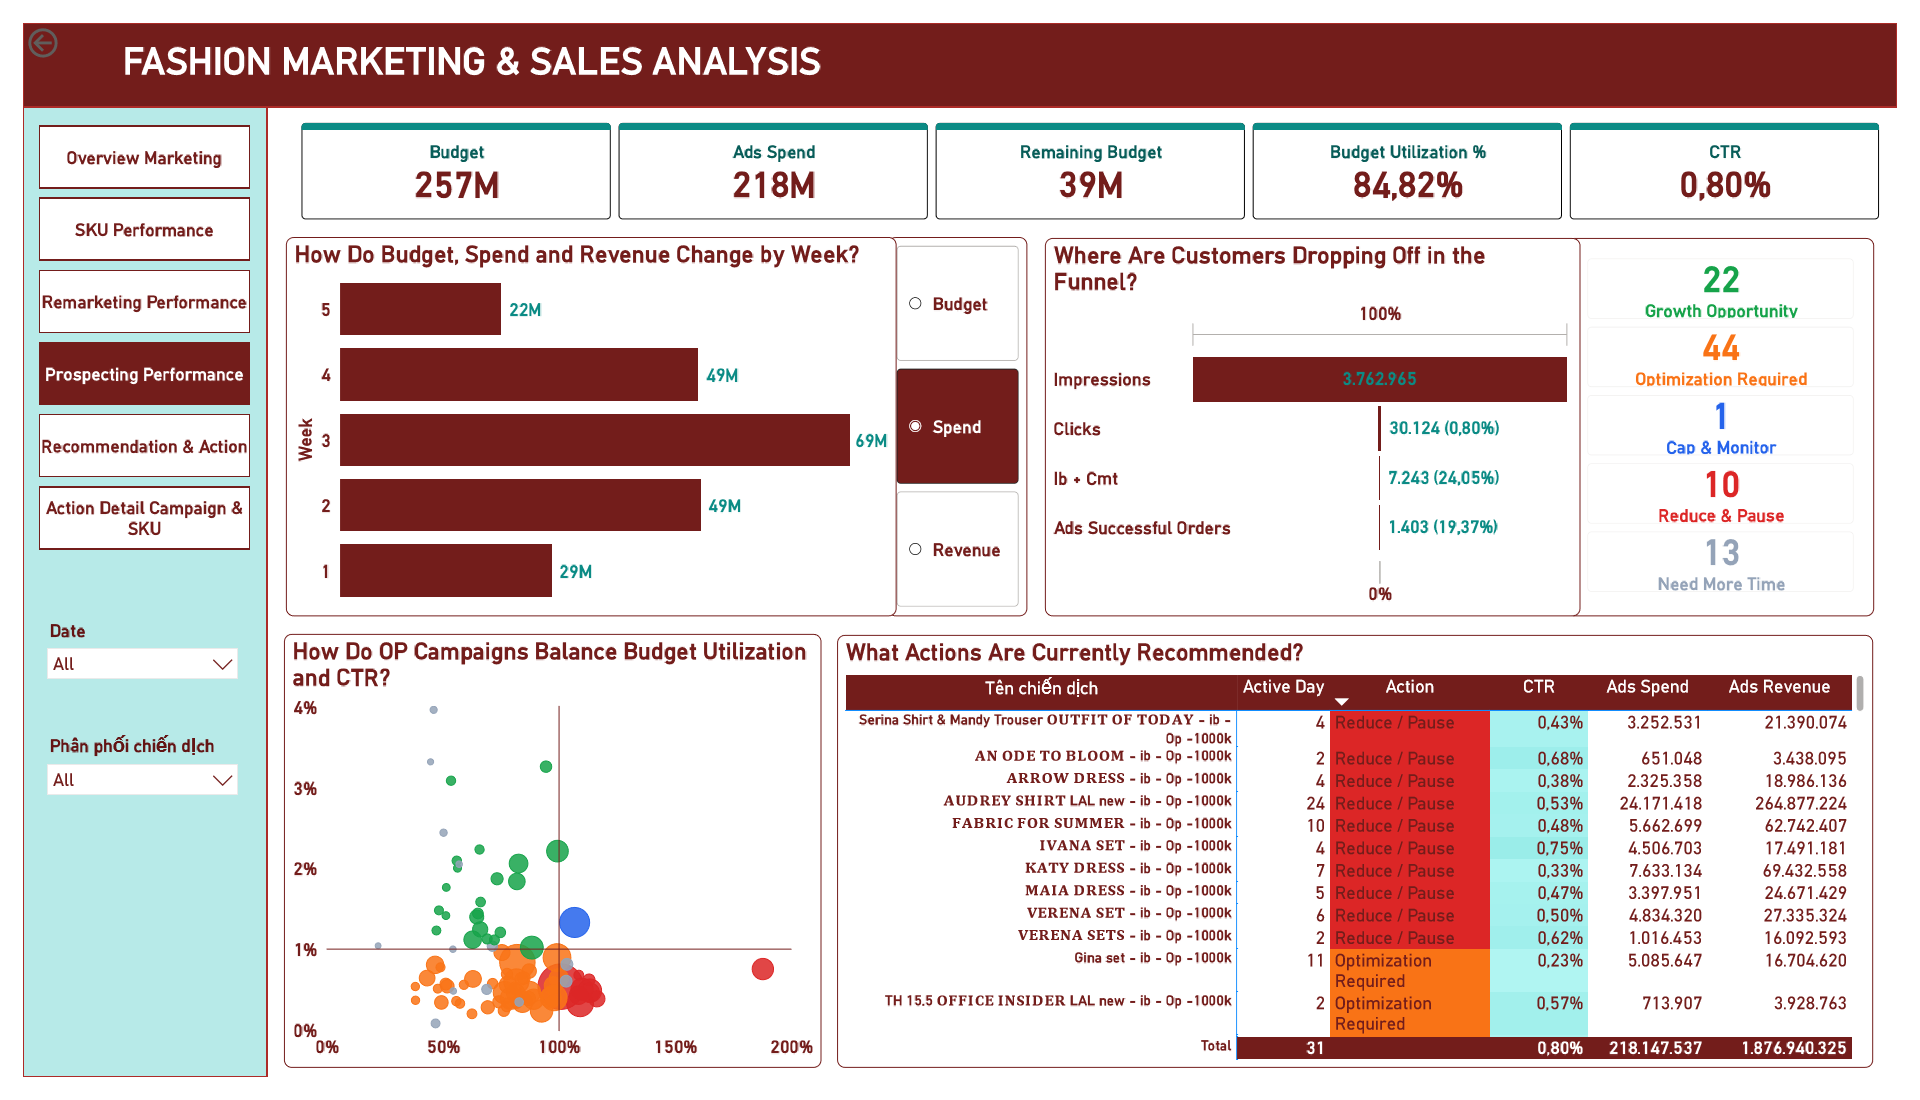

This screenshot's page, from the dashboard's own definition file:
{"tool":"powerbi","page":{"name":"Prospecting Performance","canvas":[1920,1080],"ordinal":3},"visuals":[{"type":"cardVisual","title":"Action_OP","fields":{"Data":["_Measure.OP Growth Count","_Measure.OP Optimization Count","_Measure.OP Cap Monitor Count","_Measure.OP Reduce Pause Count","_Measure.OP Need More Data Count"]},"box":[1582.3,219.9,314.4,388.1],"z":0},{"type":"shape","box":[0,85,250,995],"z":1000},{"type":"cardVisual","fields":{"Data":["_Measure.Total Budget","_Measure.Marketing Spend","_Measure._Remaining Budget","_Measure.Budget Utilization %","_Measure._CTR"]},"box":[268.3,85,1651.7,133.3],"z":2000},{"type":"slicer","fields":{"Values":["dim_date.Date"]},"box":[14.2,606.8,216.1,102.2],"z":3000},{"type":"slicer","fields":{"Values":["fact_mkt_camp_by_sku_cost.Phân phối chiến dịch"]},"box":[14.2,723.2,216.1,91.9],"z":4000},{"type":"shape","box":[0,0,1920,85.7],"z":5000},{"type":"actionButton","box":[0,0,100,40],"z":6000},{"type":"funnel","title":"Where Are Customers Dropping Off in the Funnel?","fields":{"Y":["_Measure.Impressions","_Measure.Clicks","_Measure._Ib + Cmt","_Measure.Ads Orders"]},"box":[1047.2,220.3,548.9,387.5],"z":7000},{"type":"scatterChart","title":"How Do OP Campaigns Balance Budget Utilization and CTR?","fields":{"Category":["fact_mkt_camp_by_sku_cost.Tên chiến dịch"],"Size":["_Measure.Marketing Spend"],"X":["_Measure._Budget Utilization %"],"Y":["_Measure._CTR"]},"box":[267.2,626.5,551.1,444.6],"z":8000},{"type":"pivotTable","title":"What Actions Are Currently Recommended?","fields":{"Rows":["fact_mkt_camp_by_sku_cost.Tên chiến dịch"],"Values":["_Measure.Campaign Active Days","_Measure.Action_OP","_Measure._CTR","_Measure.Ads Spend","_Measure.Ads Revenue"]},"box":[834,626.7,1062.5,444.1],"z":9000},{"type":"textbox","box":[97.1,11.4,798.6,62.9],"z":10000},{"type":"advancedSlicerVisual","fields":{"Values":["Parameter_Page_1.Parameter"]},"box":[886.3,218.7,142.3,389.4],"z":10500},{"type":"clusteredBarChart","title":"How Do Budget, Spend and Revenue Change by Week?","fields":{"Category":["dim_date.Tuần trong tháng"],"Y":["_Measure.Ads Spend"]},"box":[269.1,218.7,626.2,389.4],"z":11000},{"type":"pageNavigator","box":[15.5,104.8,216.1,434.7],"z":13000}]}

Visuals, with their boxes in screenshot pixels (x1, y1, x2, y2), scaled from the page's 1920x1080 canvas onto the 1920x1100 screenshot:
"Action_OP" cardVisual: (1582, 224, 1897, 619)
shape: (0, 87, 250, 1099)
cardVisual - _Measure.Total Budget x _Measure.Marketing Spend: (268, 87, 1919, 222)
slicer - dim_date.Date: (14, 618, 230, 722)
slicer - fact_mkt_camp_by_sku_cost.Phân phối chiến dịch: (14, 737, 230, 830)
shape: (0, 0, 1919, 87)
actionButton: (0, 0, 100, 41)
"Where Are Customers Dropping Off in the Funnel?" funnel: (1047, 224, 1596, 619)
"How Do OP Campaigns Balance Budget Utilization and CTR?" scatterChart: (267, 638, 818, 1091)
"What Actions Are Currently Recommended?" pivotTable: (834, 638, 1896, 1091)
textbox: (97, 12, 896, 76)
advancedSlicerVisual - Parameter_Page_1.Parameter: (886, 223, 1029, 619)
"How Do Budget, Spend and Revenue Change by Week?" clusteredBarChart: (269, 223, 895, 619)
pageNavigator: (16, 107, 232, 549)
